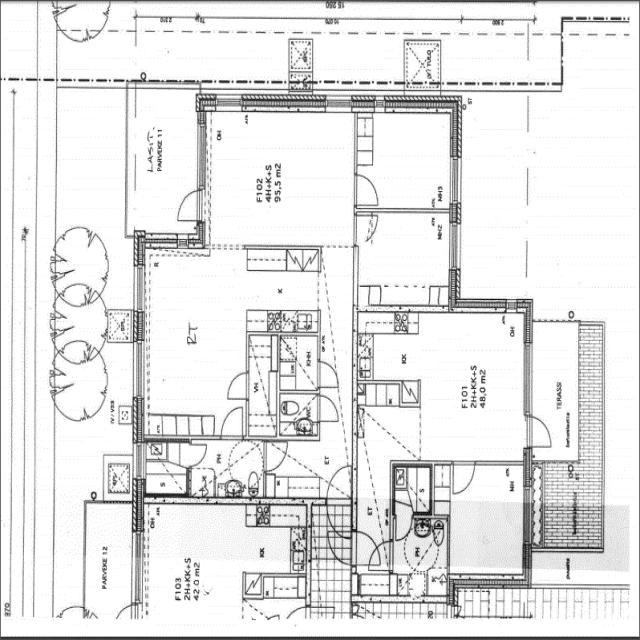door: (352, 530, 383, 568), (525, 412, 555, 451), (326, 464, 354, 502), (175, 186, 202, 225), (354, 209, 381, 246), (451, 458, 476, 497), (354, 172, 381, 208), (219, 404, 245, 440), (264, 439, 290, 474), (366, 536, 392, 570), (316, 392, 340, 425), (327, 534, 352, 564), (226, 371, 250, 402), (316, 360, 339, 390), (392, 510, 412, 542), (186, 439, 208, 468), (115, 603, 135, 624)
window: (130, 533, 144, 607), (521, 343, 535, 416), (194, 120, 209, 188), (131, 340, 146, 401), (448, 218, 462, 274), (448, 154, 463, 206), (521, 484, 532, 547), (132, 264, 145, 314), (323, 94, 353, 113), (114, 602, 136, 624), (133, 441, 145, 481), (214, 96, 244, 112), (522, 477, 532, 512), (18, 74, 30, 82)
zone: (353, 310, 528, 459), (141, 504, 310, 630), (142, 242, 250, 437), (206, 109, 355, 242), (356, 110, 454, 210), (357, 209, 452, 310), (448, 462, 526, 585), (534, 462, 604, 554), (250, 242, 320, 330), (267, 432, 351, 502), (187, 438, 265, 501), (391, 513, 449, 597), (0, 0, 38, 81), (247, 333, 277, 432), (144, 441, 190, 498), (281, 333, 320, 392), (393, 464, 432, 516), (278, 393, 319, 438), (262, 574, 306, 601)
